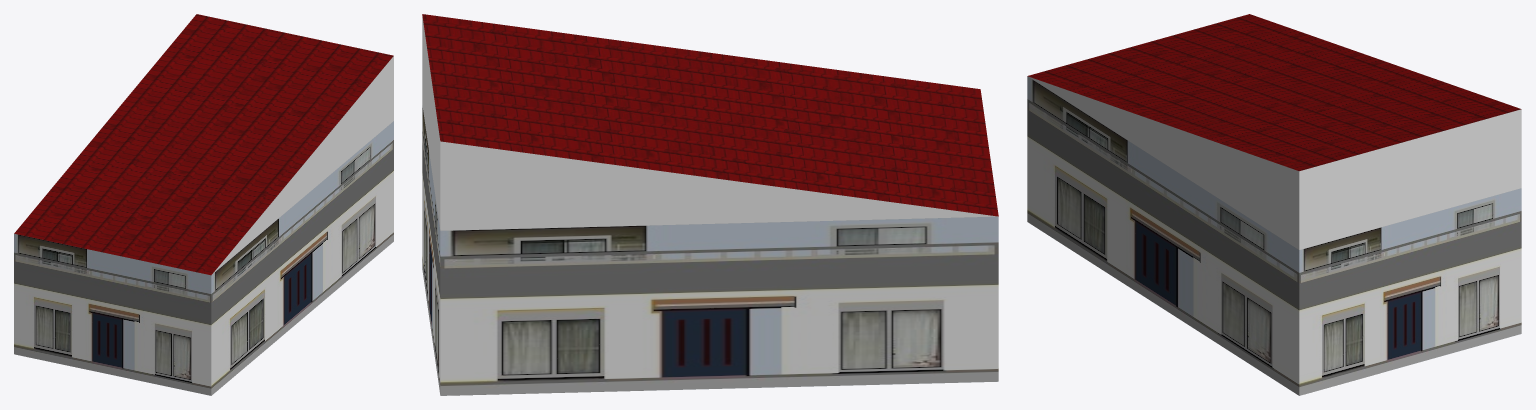
The picture shows the model from 3 angles, left to right: view 1: azimuth 30°, elevation 25°; view 2: azimuth 150°, elevation 25°; view 3: azimuth 270°, elevation 25°; orthographic projection. The views are drawn at different scales.
Parts seen in each view (by area): view 1: CityEngineMaterial_17_m, CityEngineMaterial_7_m, CityEngineMaterial_3_m; view 2: CityEngineMaterial_7_m, CityEngineMaterial_17_m, CityEngineMaterial_3_m; view 3: CityEngineMaterial_7_m, CityEngineMaterial_17_m, CityEngineMaterial_3_m.
Boxes of the visible parts, bbox=[...] form: CityEngineMaterial_17_m: bbox=[14, 14, 393, 275]; CityEngineMaterial_7_m: bbox=[14, 121, 393, 395]; CityEngineMaterial_3_m: bbox=[212, 56, 393, 274]; CityEngineMaterial_7_m: bbox=[422, 105, 998, 395]; CityEngineMaterial_17_m: bbox=[422, 14, 998, 216]; CityEngineMaterial_3_m: bbox=[422, 16, 997, 230]; CityEngineMaterial_7_m: bbox=[1027, 76, 1521, 395]; CityEngineMaterial_17_m: bbox=[1027, 14, 1521, 171]; CityEngineMaterial_3_m: bbox=[1028, 76, 1521, 249].
Size of the model in its own units: 21.79 by 9.66 by 19.28.
